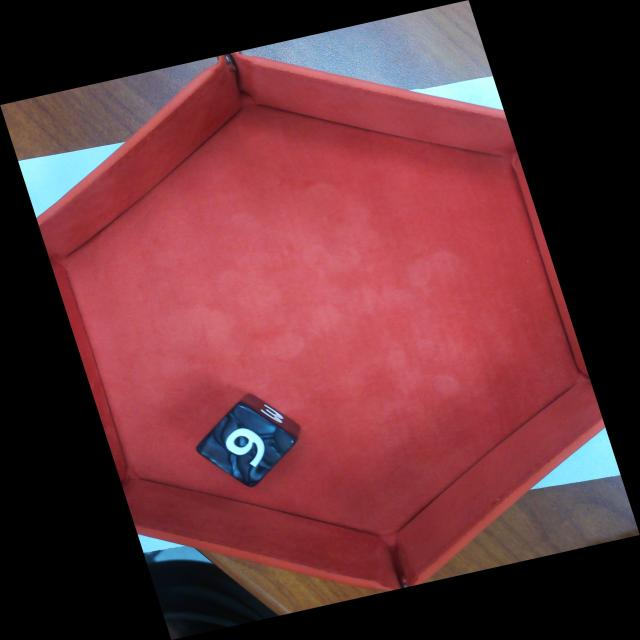dice: (198, 397, 294, 486)
